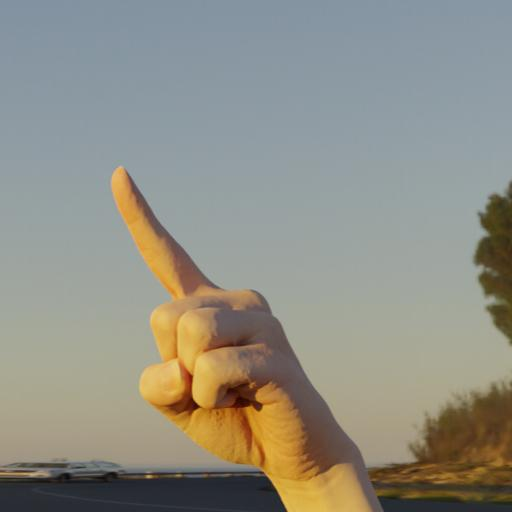Z: (102, 160, 377, 494)
